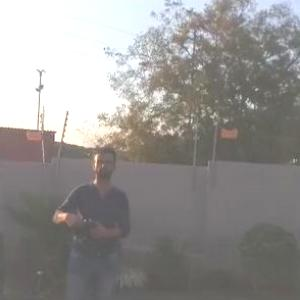follow: (48, 143, 136, 299)
